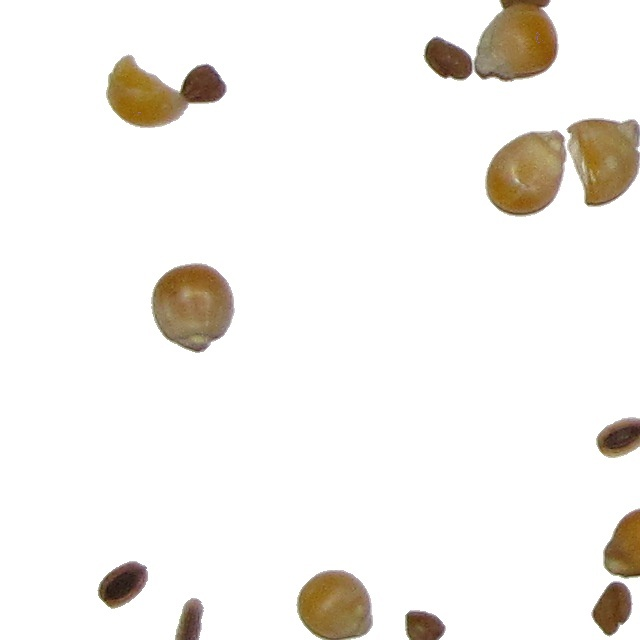buckwheat: (96, 557, 149, 607), (593, 580, 637, 638), (422, 35, 475, 82), (595, 416, 640, 459), (172, 597, 205, 640), (401, 609, 444, 640)
mais: (150, 262, 236, 354), (484, 129, 568, 218), (472, 0, 558, 83), (565, 117, 640, 208), (105, 53, 184, 130), (295, 569, 374, 640), (602, 506, 640, 580)
